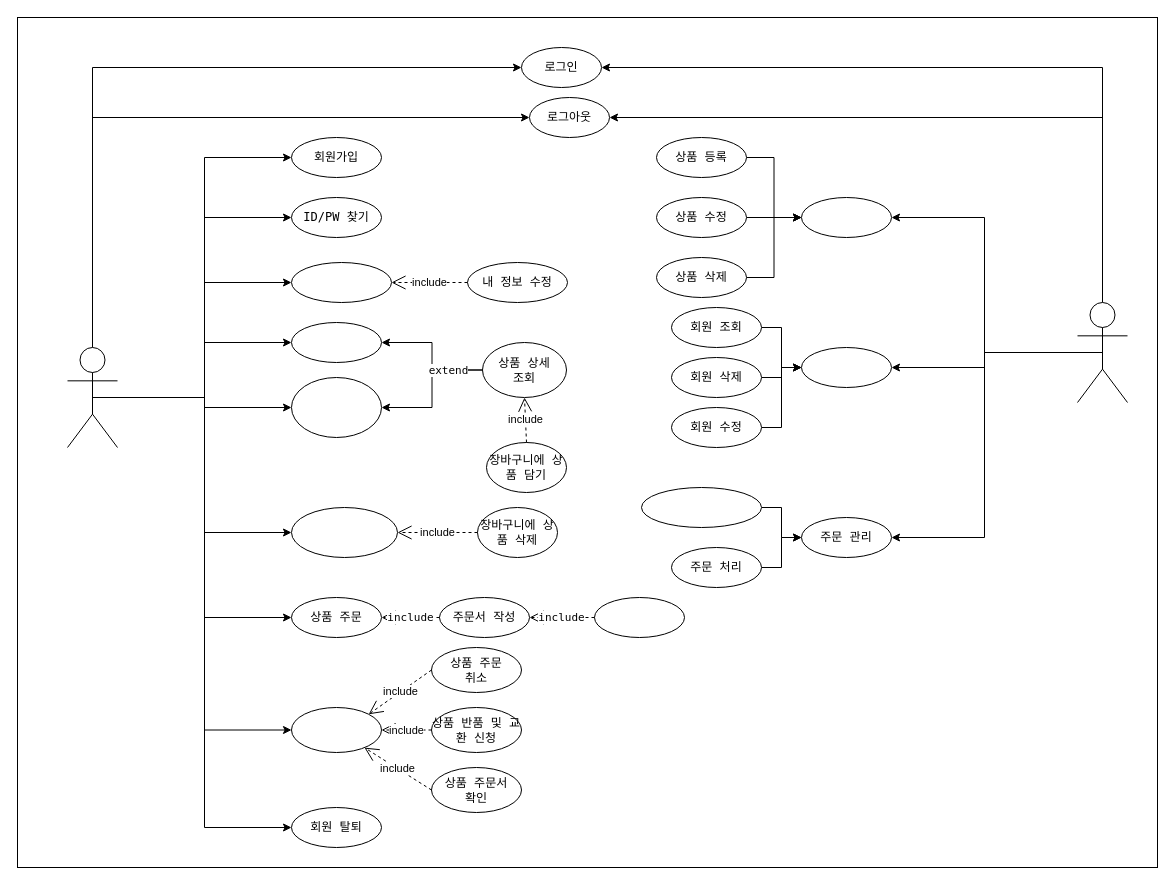
Some shapes in this 1175 by 885 pixel diagram are drawn without their labels. Each missing label, with the centre of its shape:
"개인 회원" goes at point (92, 397).
"관리자" goes at point (1102, 352).
"내 정보 확인" goes at point (341, 282).
"반품 및 교환 처리" goes at point (701, 507).
"상품 검색" goes at point (336, 342).
"상품 결제" goes at point (639, 617).
"상품 관리" goes at point (846, 217).
"상품 목록 조회" goes at point (336, 407).
"상품 주문 목록" goes at point (336, 729).
"장바구니 목록" goes at point (344, 532).
"회원 관리" goes at point (846, 367).
